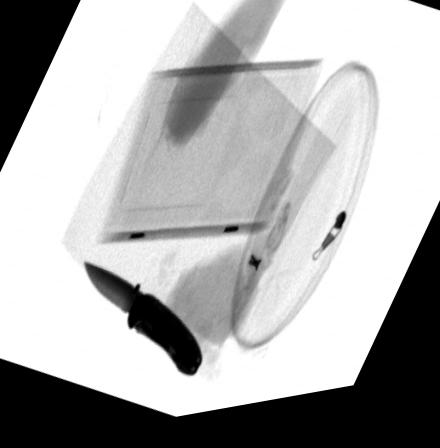Knife: (81, 261, 203, 385)
